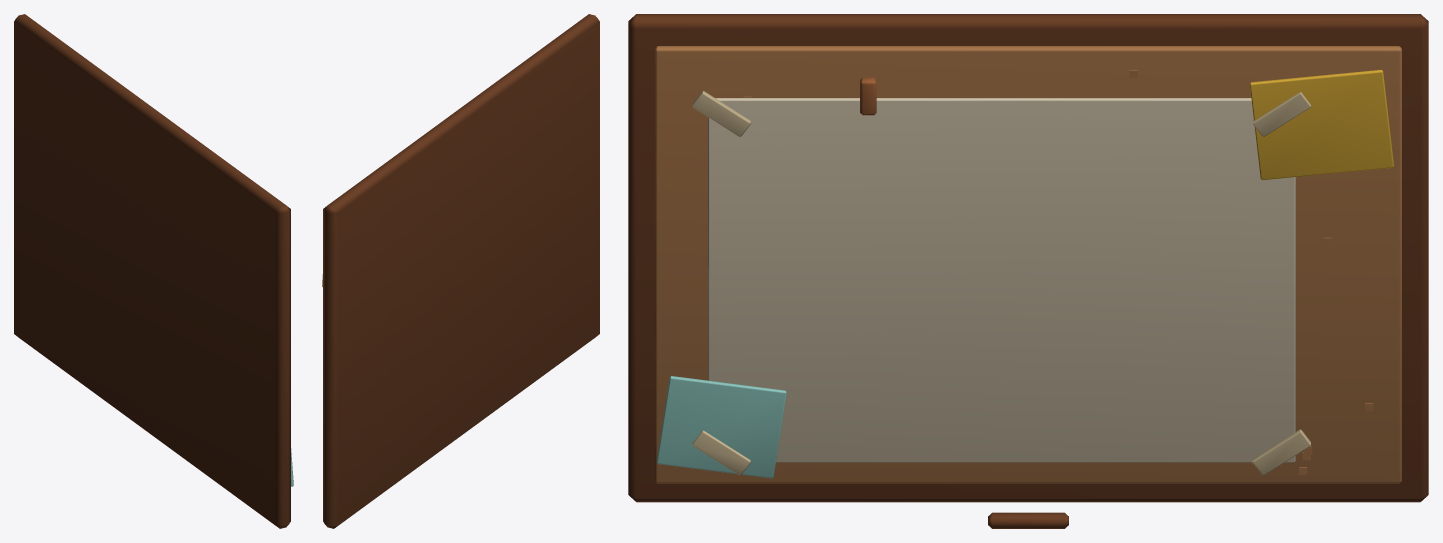
File: SM_Prop_SceneBoard.fbx
The picture shows the model from 3 angles, left to right: view 1: azimuth 30°, elevation 25°; view 2: azimuth 150°, elevation 25°; view 3: azimuth 270°, elevation 25°; orthographic projection. The views are drawn at different scales.
Parts seen in each view (by area): view 1: SM_Prop_SceneBoard; view 2: SM_Prop_SceneBoard; view 3: SM_Prop_SceneBoard.
Part boxes in pixels (x1,y1,x2,y2): SM_Prop_SceneBoard: (14,14,293,528); SM_Prop_SceneBoard: (322,14,599,528); SM_Prop_SceneBoard: (628,14,1428,528).
Size of the model in its own units: 18.66 by 207 by 300.
